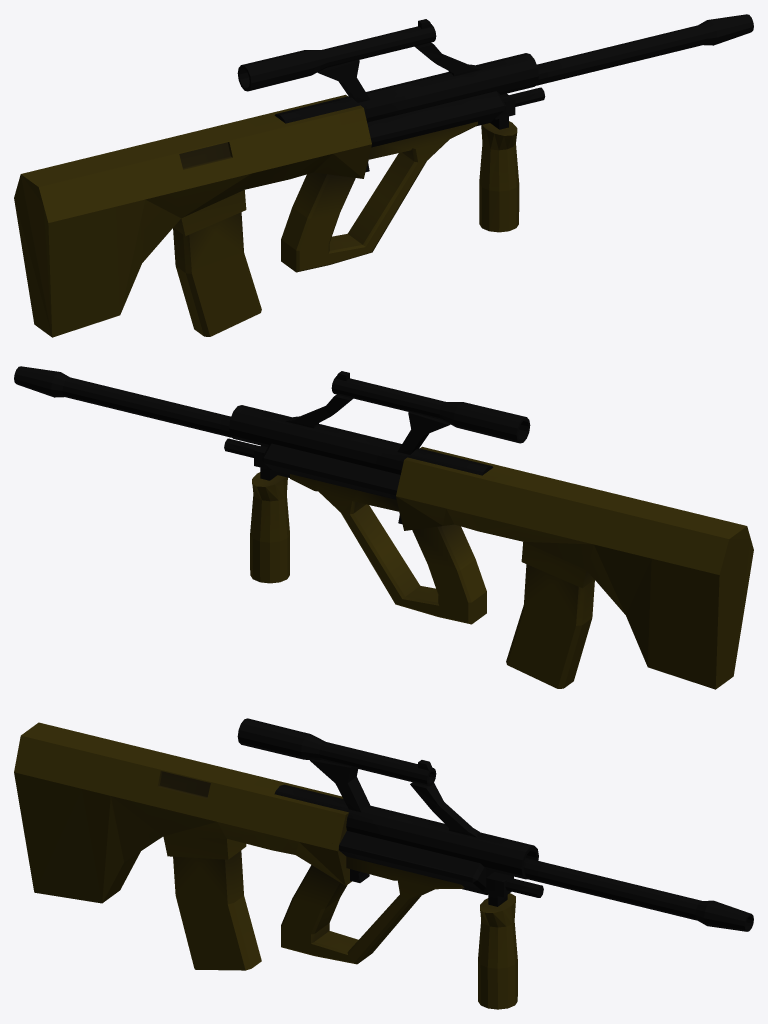
The model's file is z-assaultrifle-03.glb.
3 views of the same model, one above another, from view 1: azimuth 30°, elevation 25°; view 2: azimuth 150°, elevation 25°; view 3: azimuth 330°, elevation 25° (orthographic).
Parts seen in each view (by area): view 1: body; view 2: body; view 3: body.
Part boxes in pixels (left/top/right/bottom): body: left=14, top=14, right=753, bottom=337; body: left=14, top=366, right=753, bottom=689; body: left=14, top=718, right=753, bottom=1009.
Size of the model in its own units: 0.75 by 0.2559 by 0.0621.
